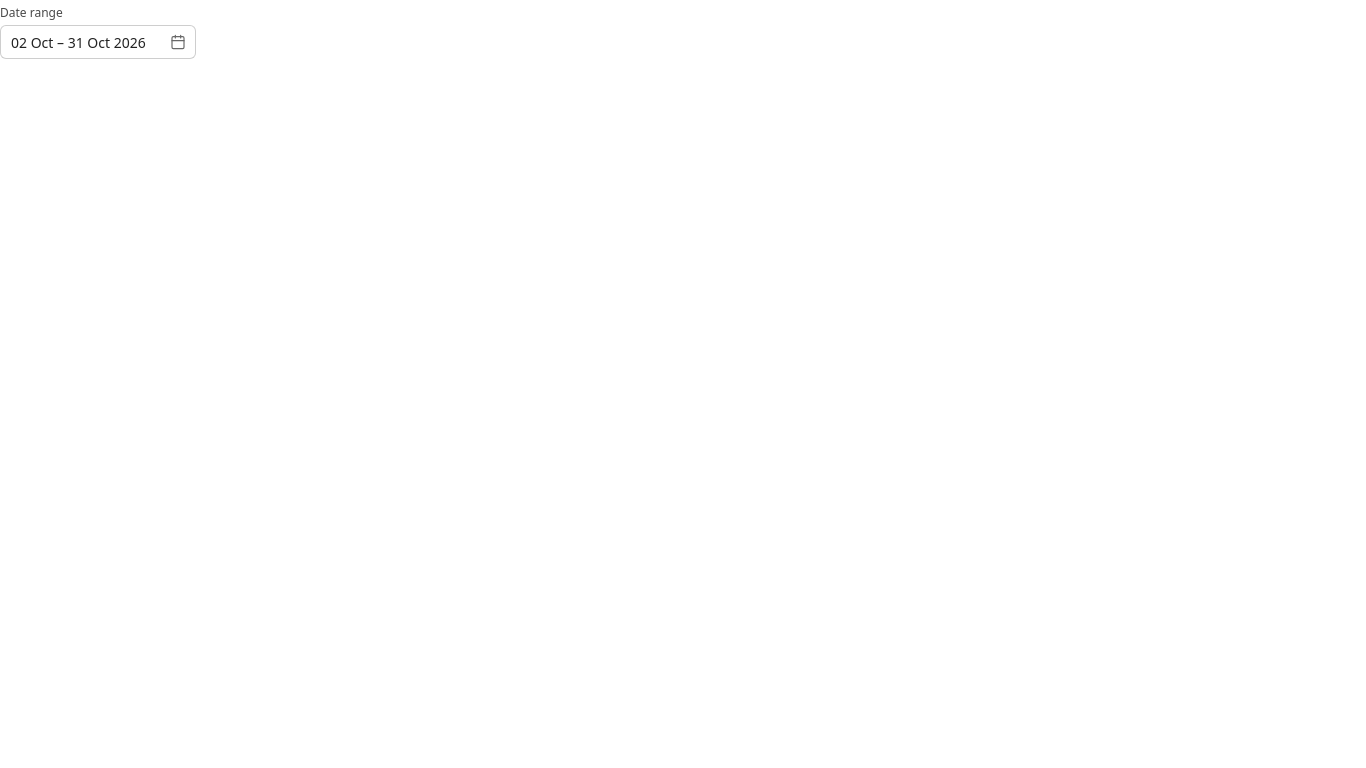
DateRangePicker › picks a start then an end, in either order, and closes
The width and height of the screenshot is (1366, 768).
Click the button named "Date range": (98, 42) [0,25,196,59]
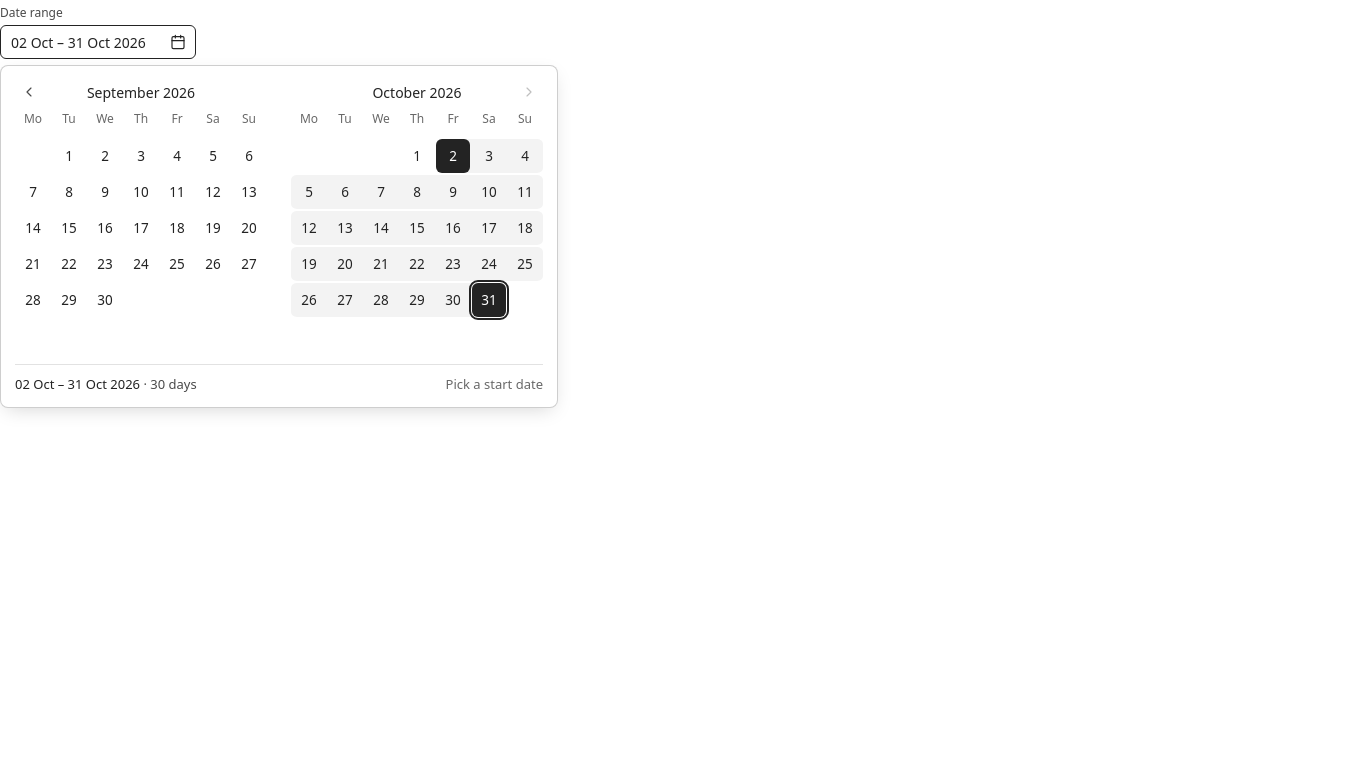
Click the button named "Thursday 22 October 2026": (417, 264) [400,247,434,281]
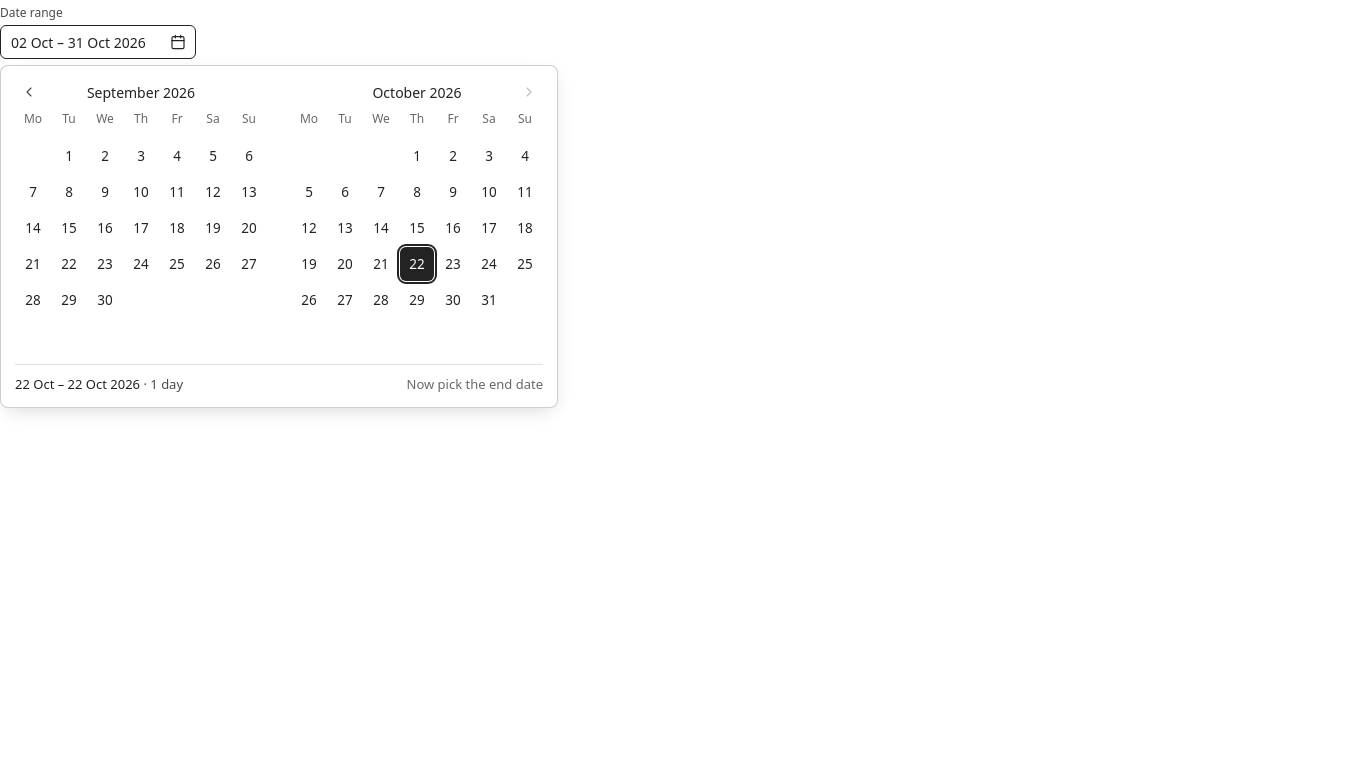
Expected: the text "Now pick the end date" is shown, [406,375,543,394]
Click the button named "Monday 12 October 2026": (309, 228) [292,211,326,245]
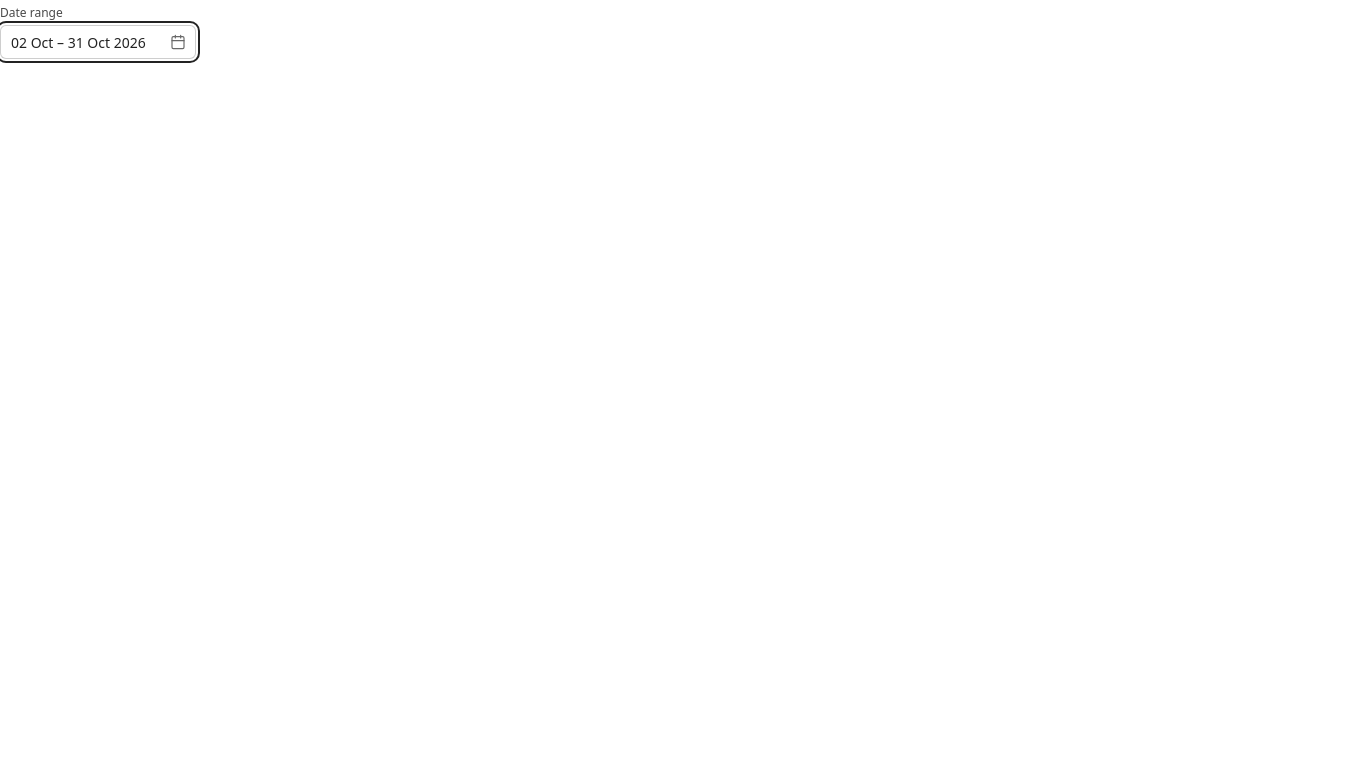
Expected: the dialog is gone
